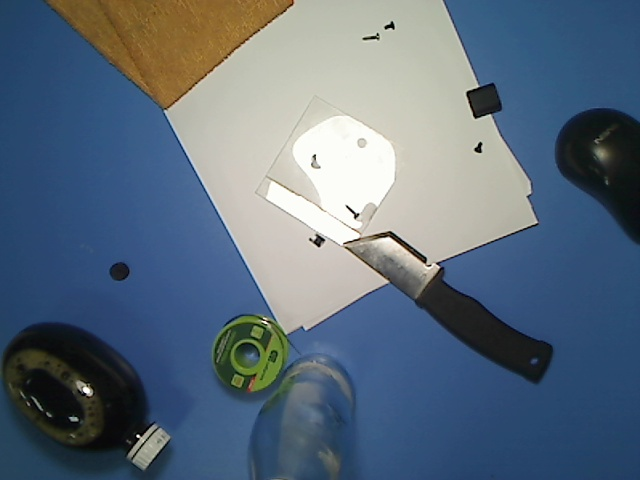plast_bottle: (1, 320, 174, 479)
